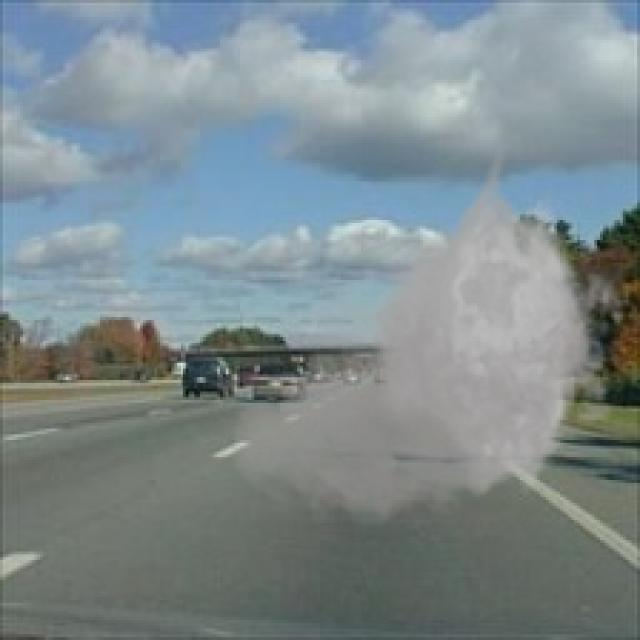smoke: (226, 137, 637, 540)
